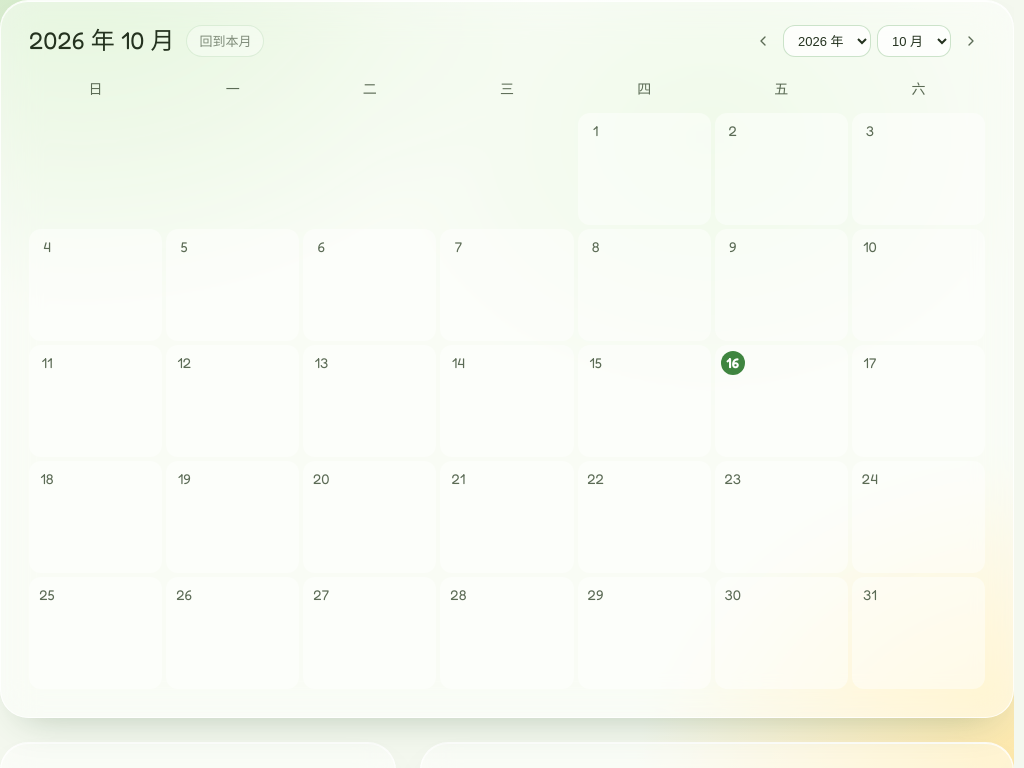
CalendarSection › moving to another month shows its charges
The width and height of the screenshot is (1024, 768).
Click the button named "下個月": [971, 41] box [957,27,985,55]
(page scrolled)
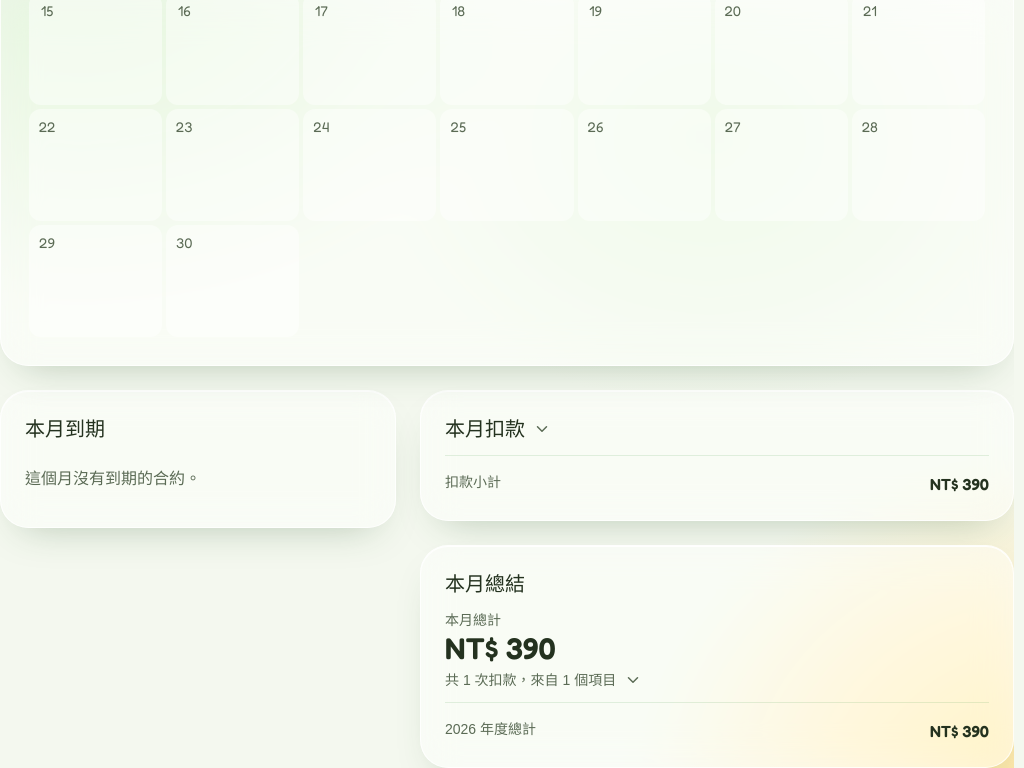
Now the text "共 1 次扣款，來自 1 個項目" is shown, box [445,670,616,690]
